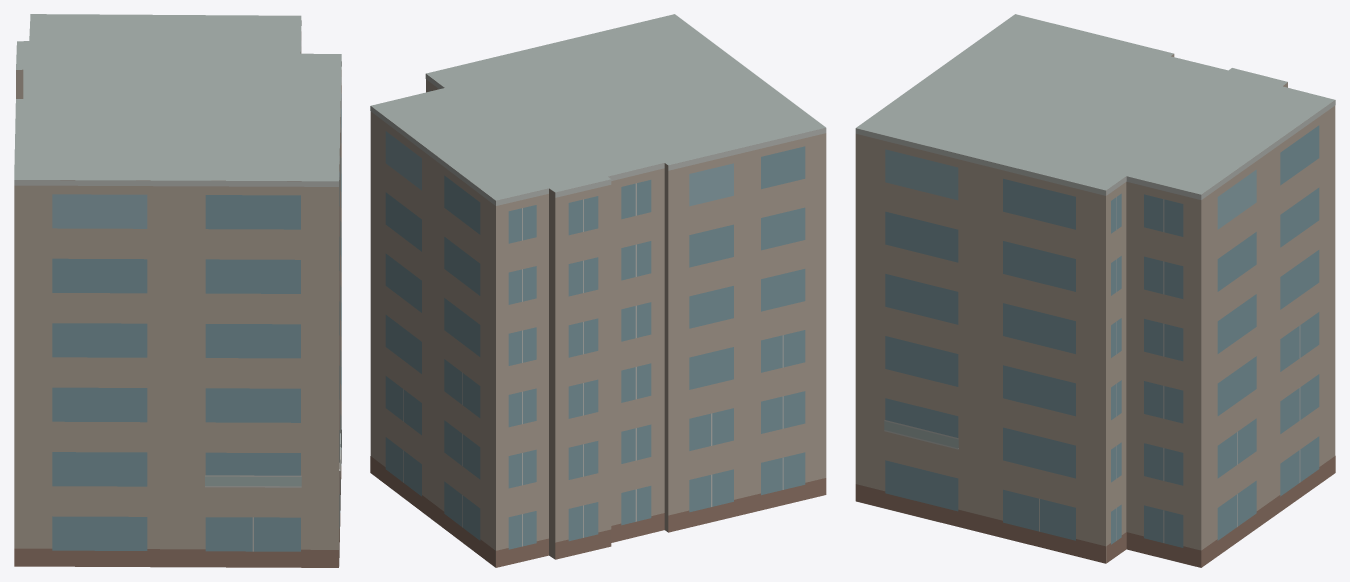
Rendered from survey-upis-32986988.glb.
The picture shows the model from 3 angles, left to right: view 1: azimuth 30°, elevation 25°; view 2: azimuth 150°, elevation 25°; view 3: azimuth 270°, elevation 25°; orthographic projection. The views are drawn at different scales.
Visible parts, largest first — view 1: survey-upis-32986988.tmp; view 2: survey-upis-32986988.tmp; view 3: survey-upis-32986988.tmp.
Boxes of the visible parts, x1,y1,x2,y2 form: survey-upis-32986988.tmp: [14, 14, 341, 567]; survey-upis-32986988.tmp: [370, 14, 826, 567]; survey-upis-32986988.tmp: [855, 14, 1335, 567].
Size of the model in its own units: 17.25 by 16.6 by 19.35.
